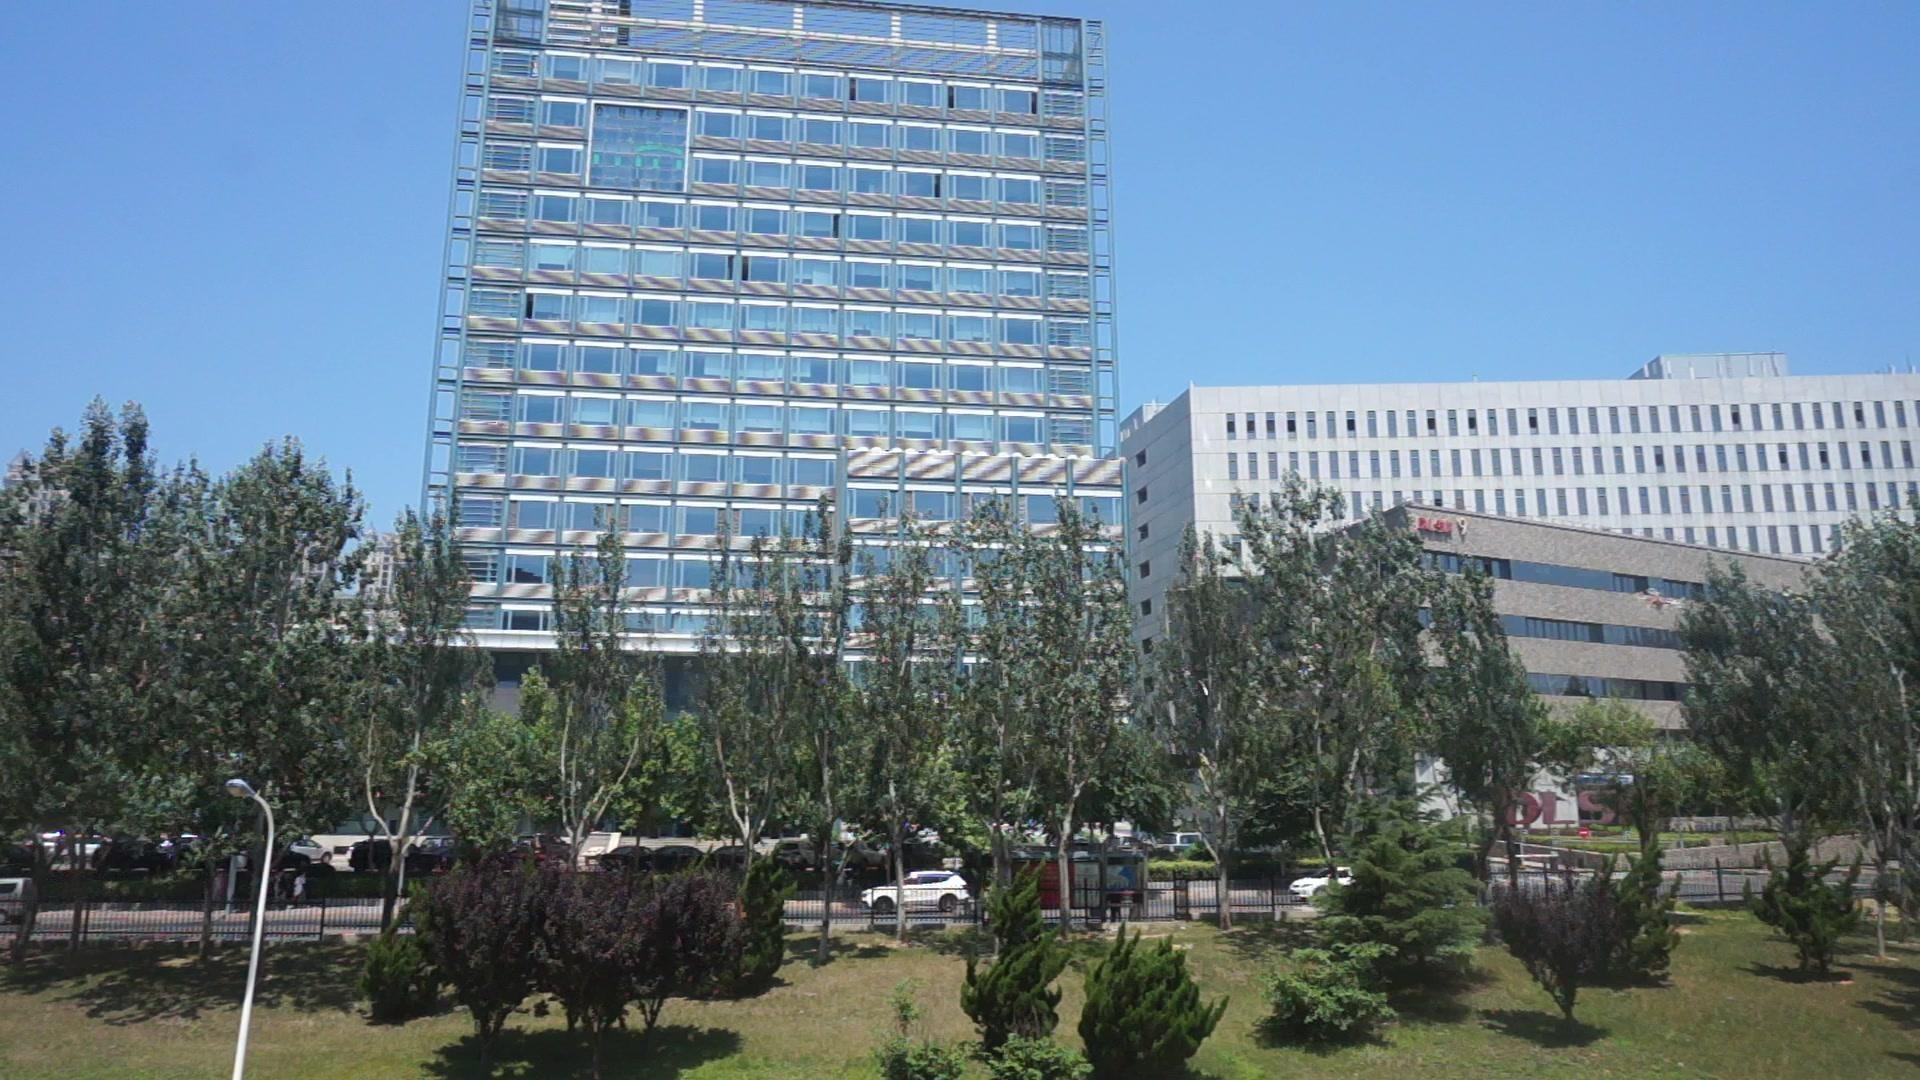UAV: (1633, 588, 1687, 615)
